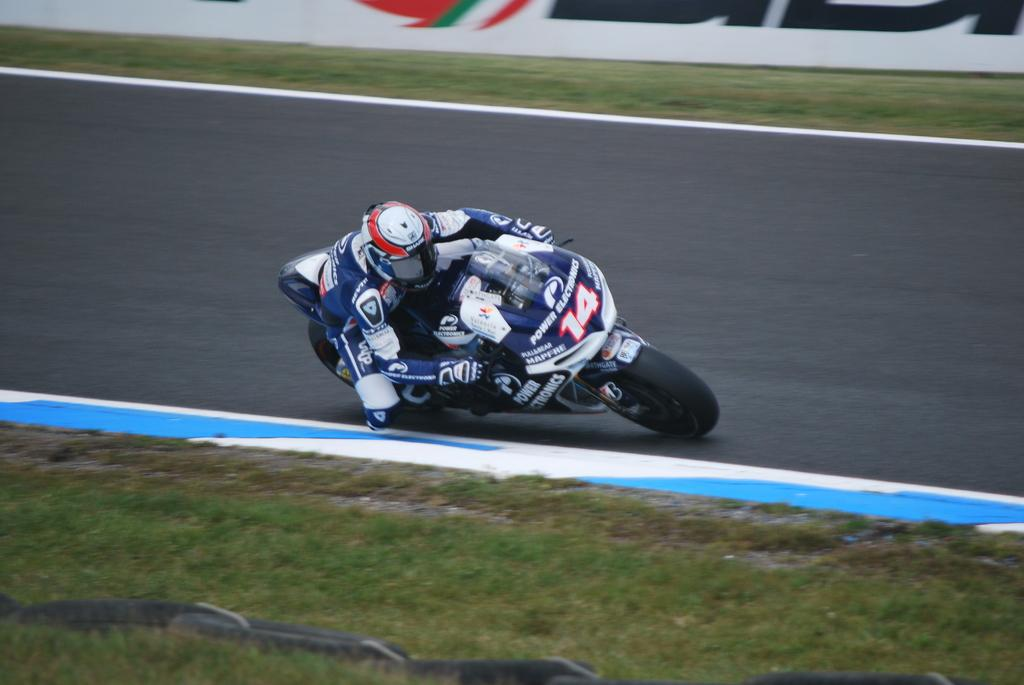helmet: (361, 200, 437, 292)
